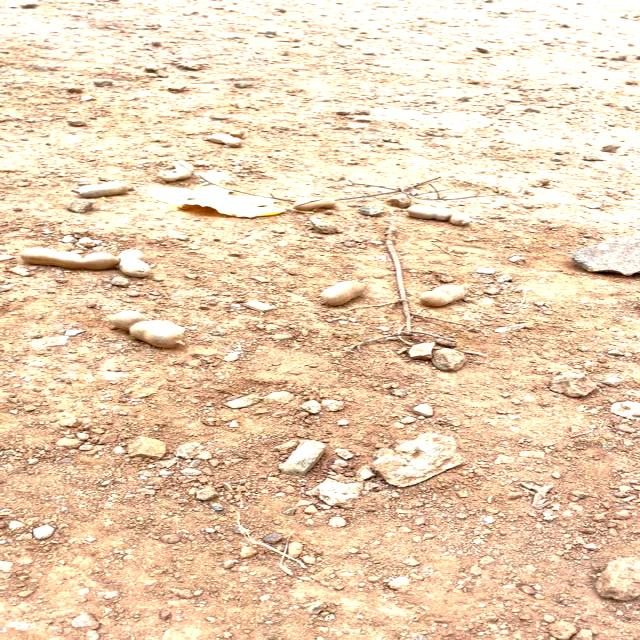tamarind: (109, 308, 194, 349), (15, 247, 119, 272), (402, 204, 476, 226), (416, 282, 471, 309), (320, 279, 366, 309), (116, 247, 156, 278), (74, 180, 136, 198), (155, 160, 201, 184), (204, 130, 244, 148)
